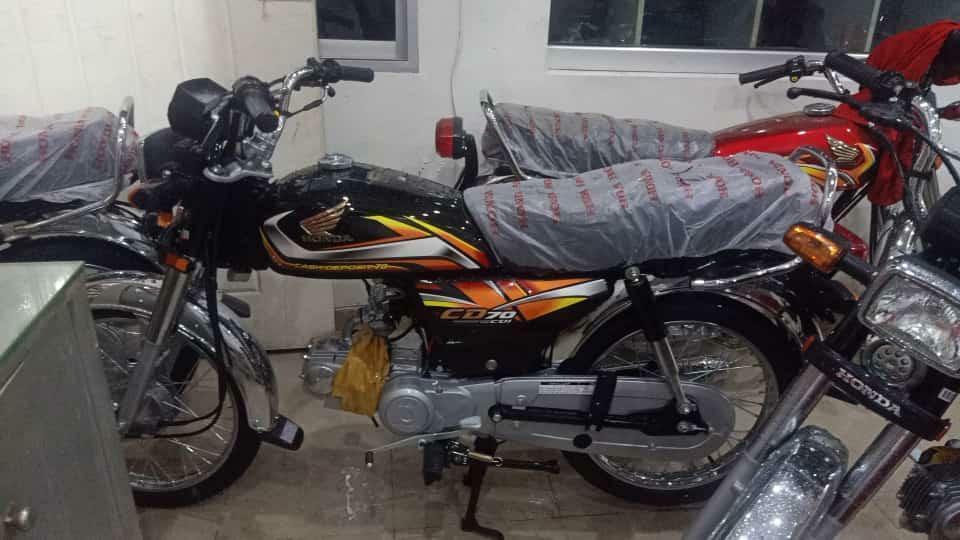motorcycle: (8, 52, 800, 500)
